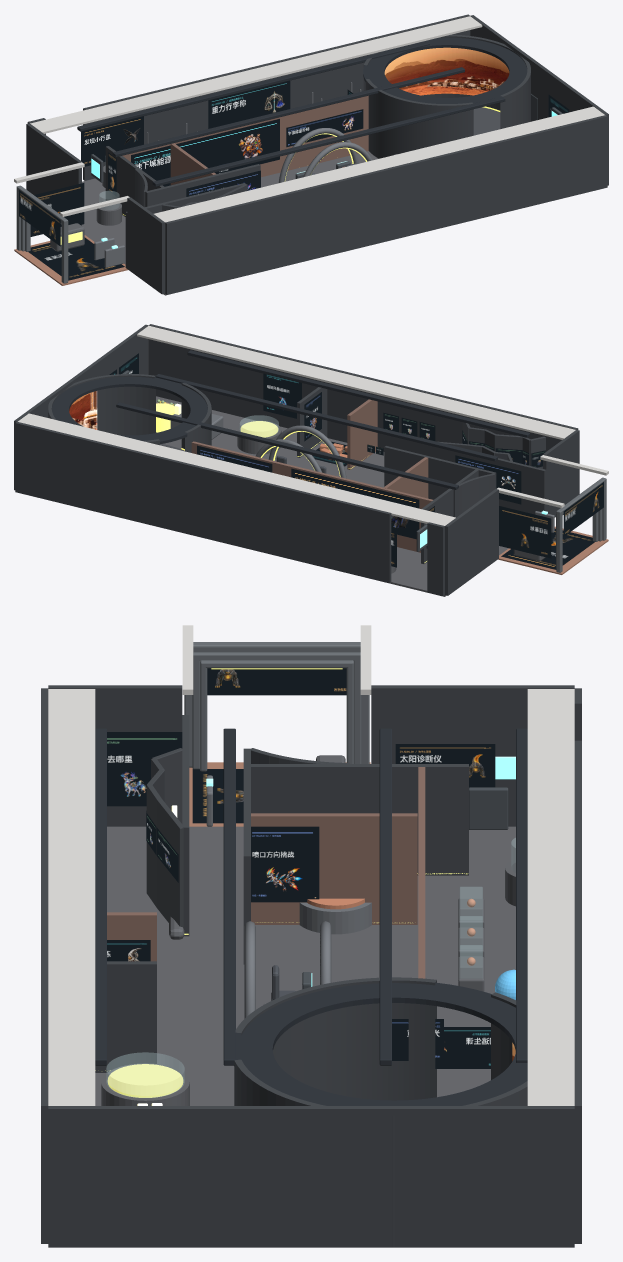
Rendered from hall.57f70d6b221c.glb.
3 renders of one model, top to bottom at view 1: azimuth 30°, elevation 25°; view 2: azimuth 150°, elevation 25°; view 3: azimuth 270°, elevation 25°, orthographic. The views are drawn at different scales.
Visible parts, largest first — view 1: Hall_Black exhibition wall, Roof_White ceiling, Roof_Black ceiling baffle, GamePanel_深空航行舱_46, Hall_Warm Expedition brown wall, GamePanel_地下城能源调度_9, GamePanel_重力行李称_8, Main hall floor, Hall_Dark sheet metal, GamePanel_发现小行星_4, GamePanel_星灵远征_44, Hall_Layered mechanical portal (+8 smaller); view 2: Hall_Black exhibition wall, Roof_White ceiling, Roof_Black ceiling baffle, Main hall floor, Hall_Warm Expedition brown wall, GamePanel_远征基地_2, GamePanel_小行星撞击倒计时_5, Hall_Dark sheet metal, Hall_Layered mechanical portal, GamePanel_辐射风暴避难所_16, GamePanel_星灵远征_44, Hall_Orange luminous edge (+8 smaller); view 3: Hall_Black exhibition wall, Roof_White ceiling, Main hall floor, Roof_Black ceiling baffle, Hall_Warm Expedition brown wall, Hall_Layered mechanical portal, Hall_Exhibit glass, GamePanel_喷口方向挑战_21, Hall_Exhibit counter, Hall_Dark sheet metal, GamePanel_流浪去哪里_41, GamePanel_星灵远征_1 (+7 smaller).
Part boxes in pixels (x1,y1,x2,y2): Hall_Black exhibition wall: [26, 14, 608, 294]; Roof_White ceiling: [14, 16, 604, 222]; Roof_Black ceiling baffle: [77, 37, 527, 186]; GamePanel_深空航行舱_46: [384, 47, 509, 95]; Hall_Warm Expedition brown wall: [122, 95, 368, 185]; GamePanel_地下城能源调度_9: [131, 119, 279, 186]; GamePanel_重力行李称_8: [208, 80, 290, 128]; Main hall floor: [82, 151, 378, 295]; Hall_Dark sheet metal: [94, 82, 372, 267]; GamePanel_发现小行星_4: [81, 116, 143, 166]; GamePanel_星灵远征_44: [28, 237, 124, 280]; Hall_Layered mechanical portal: [16, 185, 68, 283]; Hall_Black exhibition wall: [14, 324, 579, 596]; Roof_White ceiling: [18, 325, 608, 525]; Roof_Black ceiling baffle: [52, 350, 529, 489]; Main hall floor: [156, 396, 508, 596]; Hall_Warm Expedition brown wall: [191, 399, 432, 552]; GamePanel_远征基地_2: [499, 506, 551, 558]; GamePanel_小行星撞击倒计时_5: [291, 468, 419, 539]; Hall_Dark sheet metal: [170, 406, 554, 532]; Hall_Layered mechanical portal: [556, 477, 606, 572]; GamePanel_辐射风暴避难所_16: [263, 373, 301, 418]; GamePanel_星灵远征_44: [501, 528, 594, 569]; Hall_Orange luminous edge: [156, 403, 426, 562]; Hall_Black exhibition wall: [41, 685, 581, 1247]; Roof_White ceiling: [48, 625, 574, 1105]; Main hall floor: [48, 826, 574, 1247]; Roof_Black ceiling baffle: [95, 728, 527, 1105]; Hall_Warm Expedition brown wall: [107, 767, 425, 978]; Hall_Layered mechanical portal: [184, 642, 369, 771]; Hall_Exhibit glass: [106, 838, 515, 1097]; GamePanel_喷口方向挑战_21: [251, 826, 319, 902]; Hall_Exhibit counter: [101, 755, 515, 1105]; Hall_Dark sheet metal: [206, 775, 371, 1018]; GamePanel_流浪去哪里_41: [107, 732, 182, 806]; GamePanel_星灵远征_1: [207, 668, 346, 695].
Size of the model in its own units: 31.6 by 4.31 by 14.9.
54 materials, 30 textured.
